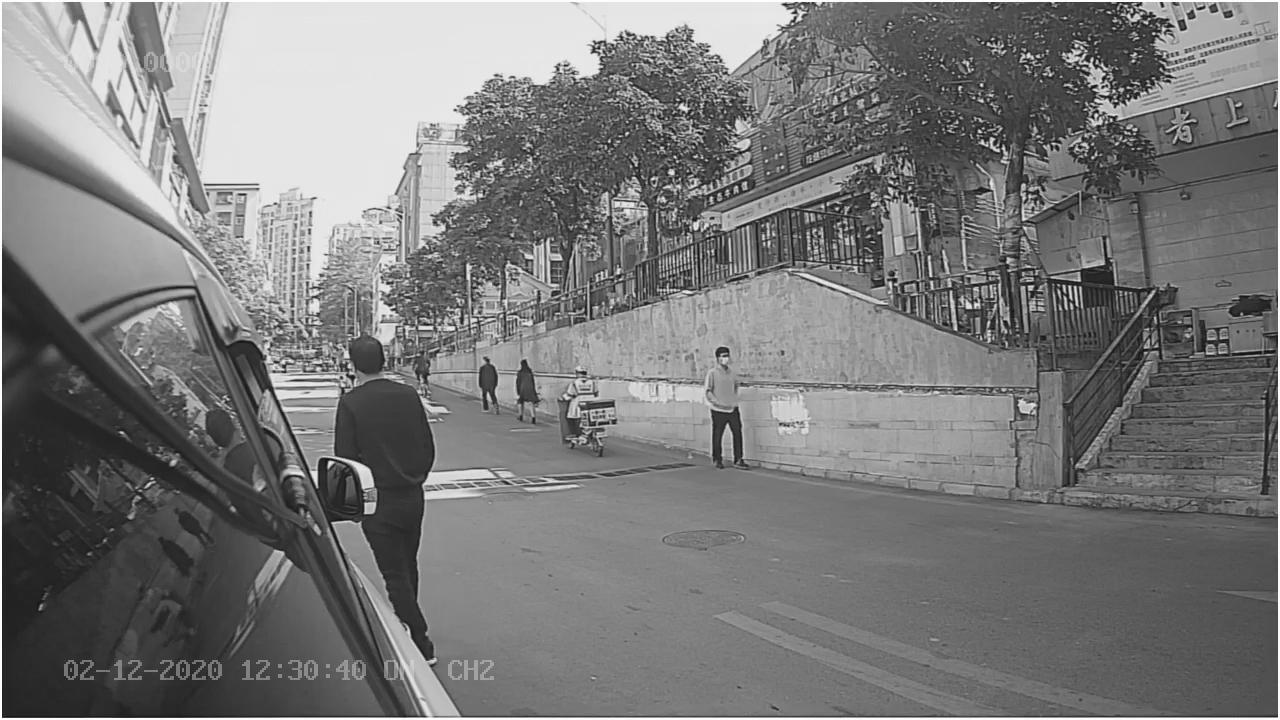person: (332, 329, 439, 454)
